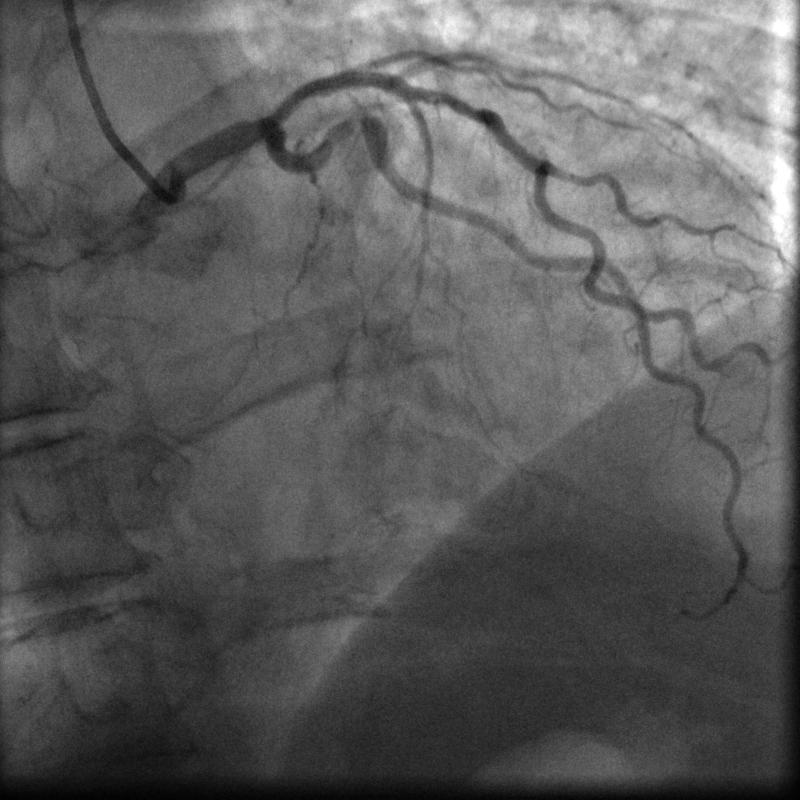Stenosis: (324, 111, 375, 138)
